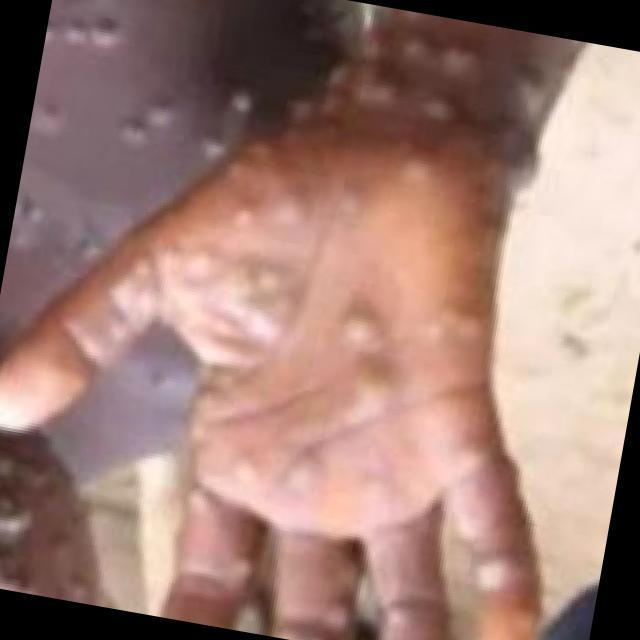Eczema: (201, 14, 504, 579), (1, 8, 244, 246)
